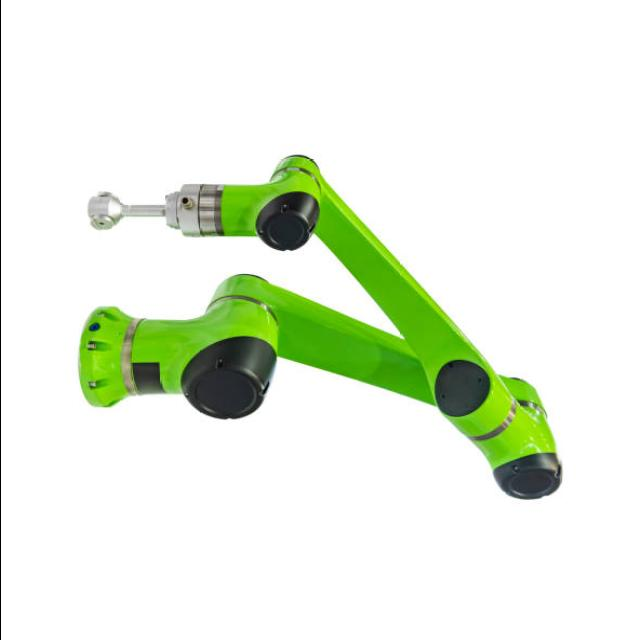Robotic-arm: (68, 145, 570, 511)
